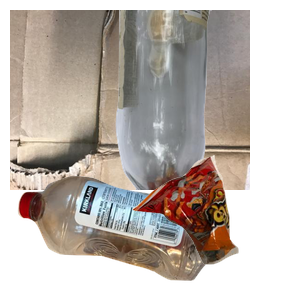cardboard: (10, 10, 250, 190)
glass: (113, 10, 300, 190)
plastic: (15, 173, 222, 300)
trash: (130, 153, 300, 300)
